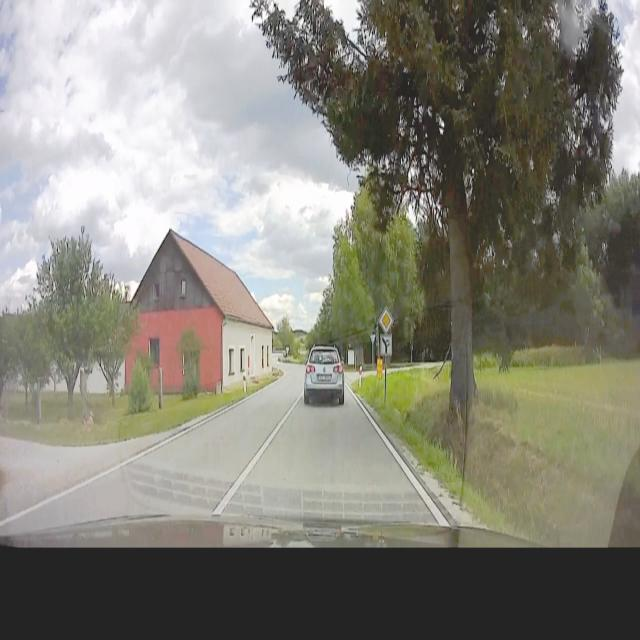Priority road: (378, 303, 394, 333)
